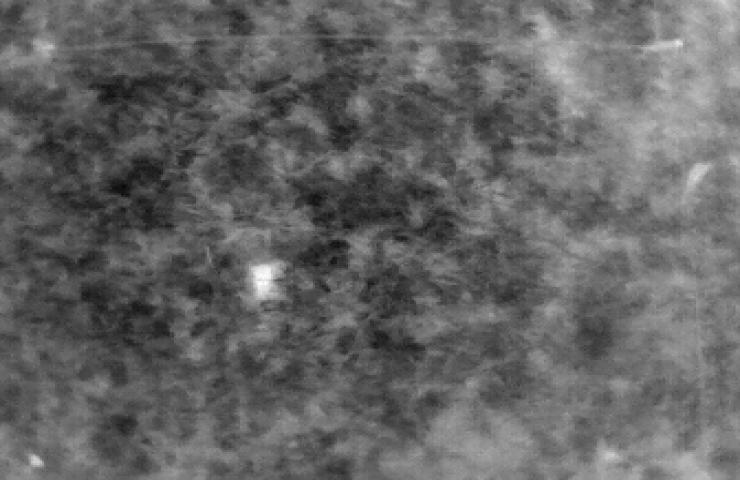landmines: (246, 261, 285, 300)
